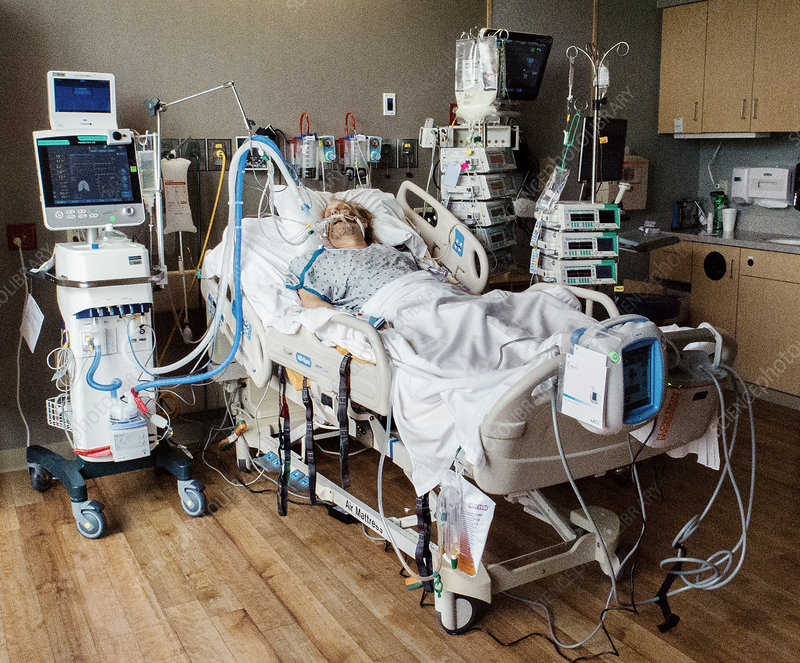bedrail: (261, 309, 390, 417), (395, 180, 488, 295), (548, 286, 622, 327)
bedside_monitor: (49, 77, 114, 122)
breathing_tube: (85, 135, 334, 427)
cabinet: (643, 8, 797, 135)
computer: (481, 27, 554, 102)
counter: (653, 223, 796, 409)
countertop: (644, 208, 794, 254)
dispenser: (749, 165, 800, 212), (730, 161, 752, 210)
foot_board: (477, 325, 737, 496)
handle: (729, 256, 735, 281), (740, 99, 747, 120), (752, 98, 758, 121), (693, 100, 699, 122)
hospital_bed: (211, 173, 712, 597)
iv_pole: (562, 44, 628, 208)
patient: (286, 200, 503, 336)
sequential_compression: (567, 311, 661, 433)
syringe_pump: (538, 259, 623, 291), (536, 230, 621, 262), (538, 198, 623, 230), (444, 174, 519, 200), (448, 228, 521, 252), (444, 202, 517, 226)
ventilator: (31, 129, 205, 538)
